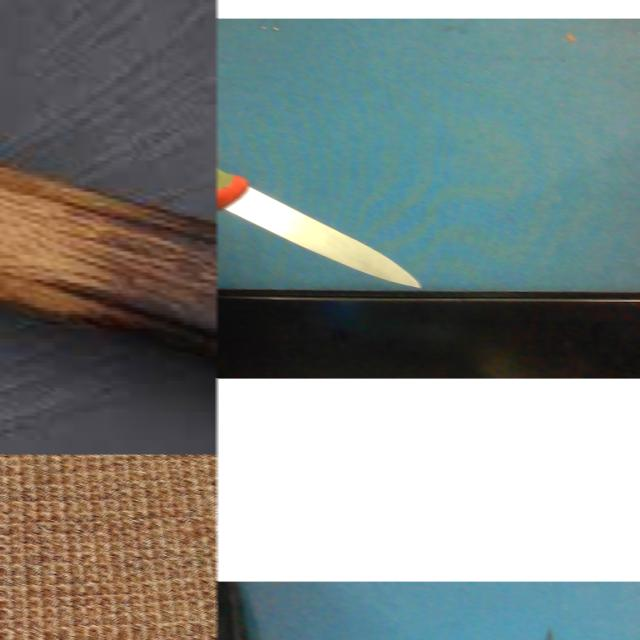Knife: (216, 168, 420, 288)
Knife_Handle: (216, 95, 442, 343)
